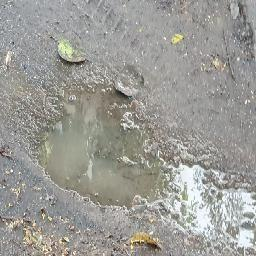water accumulation: (32, 80, 256, 252)
